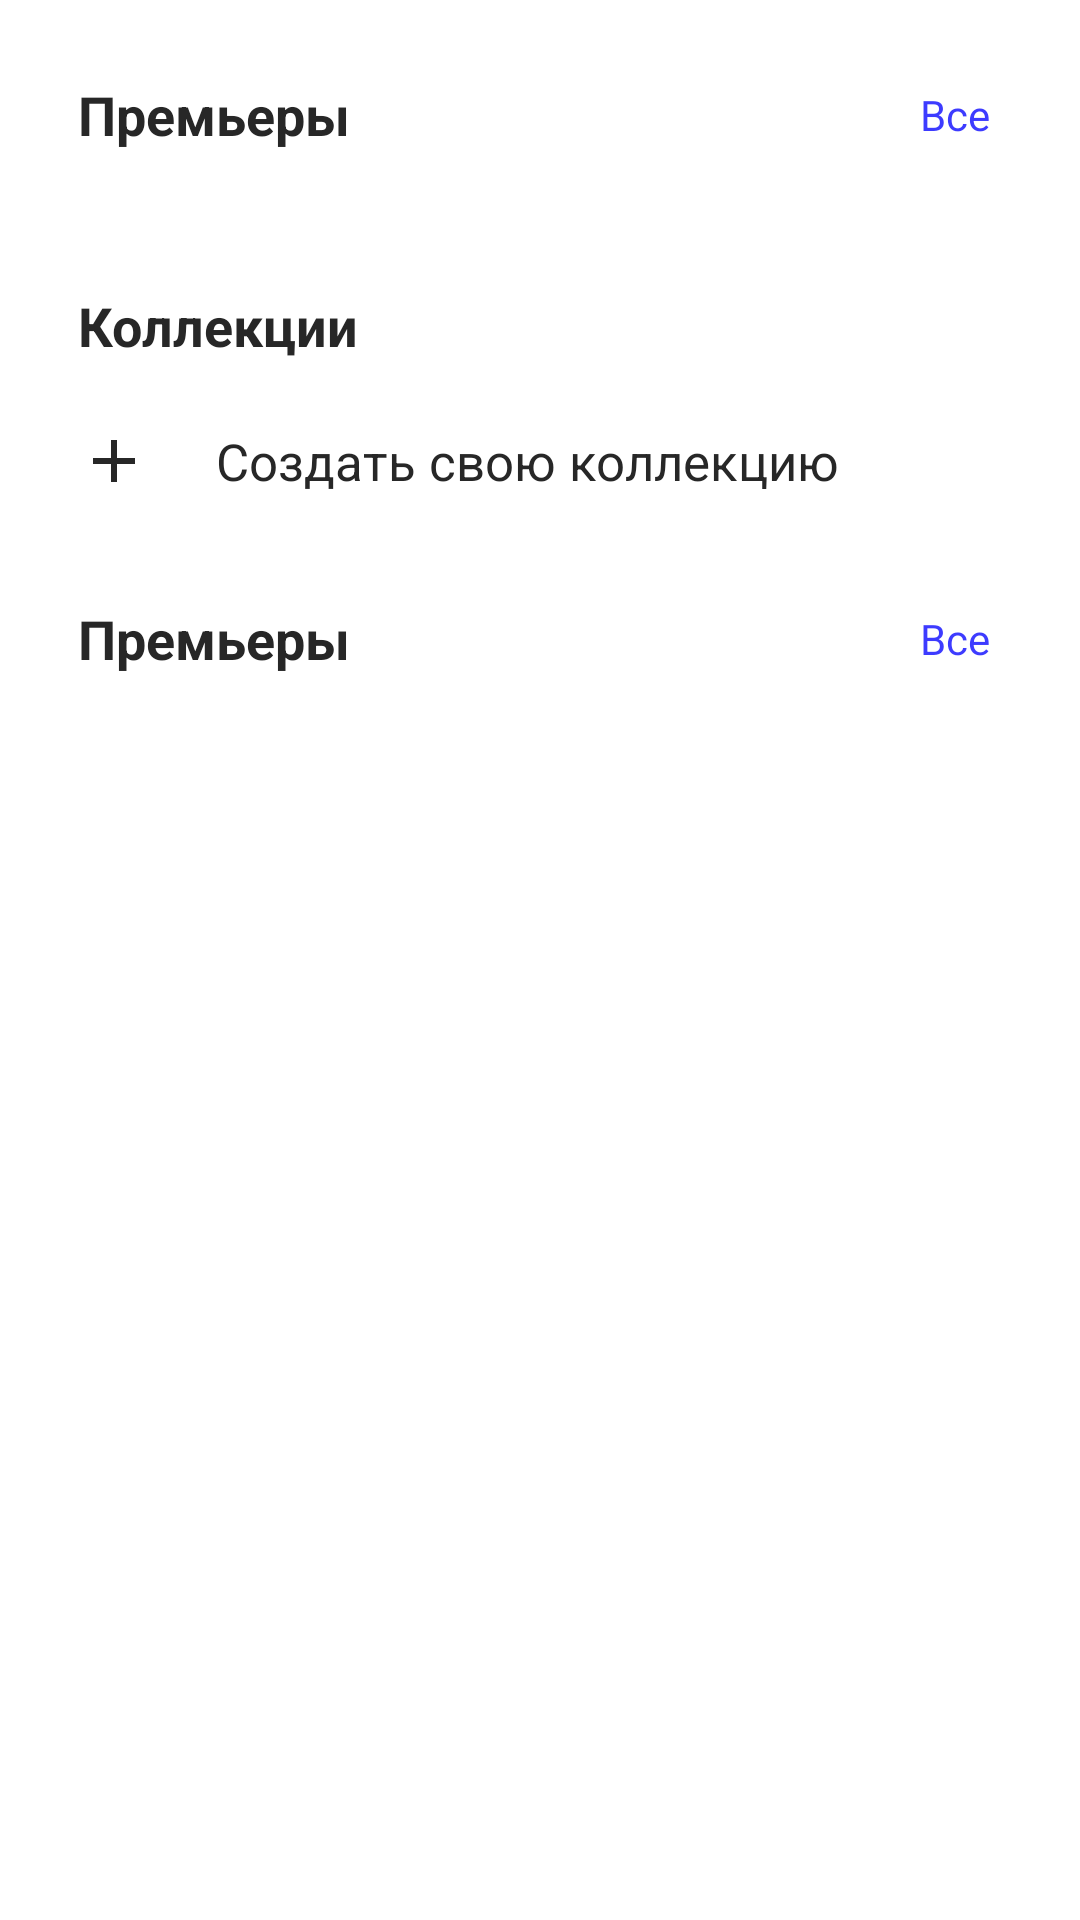

Named icons in this screenshot (1080 x 1920) and their bounding boxes, (x1, y1, x2, y2):
add: (93, 440, 135, 482)
